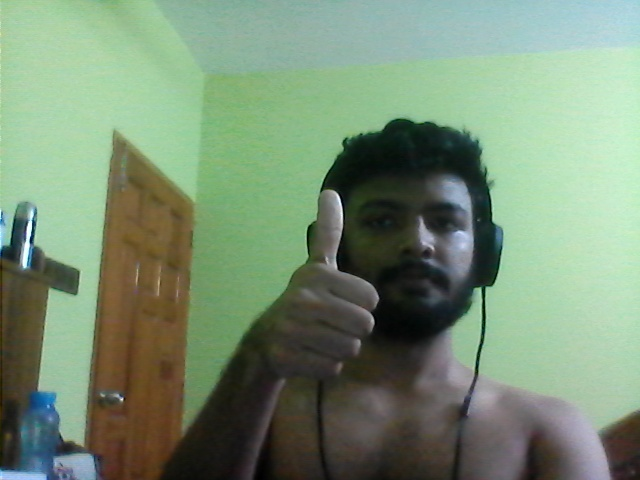Yes: (243, 189, 391, 395)
